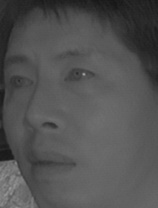eye: (61, 64, 96, 86), (4, 74, 37, 93)
mouth: (25, 148, 76, 177)
